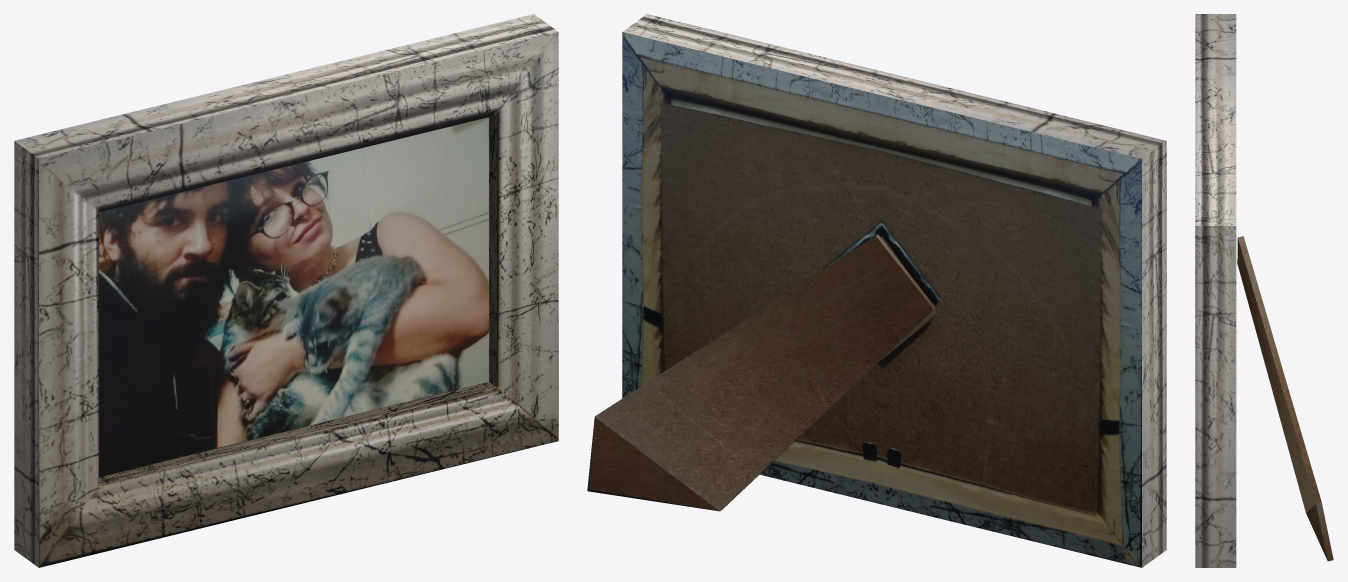
Rendered from Portrait.glb.
The picture shows the model from 3 angles, left to right: view 1: azimuth 30°, elevation 25°; view 2: azimuth 150°, elevation 25°; view 3: azimuth 270°, elevation 25°; orthographic projection. The views are drawn at different scales.
Parts seen in each view (by area): view 1: Portrait; view 2: Portrait; view 3: Portrait.
Part boxes in pixels (bbox=[...]): Portrait: bbox=[14, 14, 558, 567]; Portrait: bbox=[587, 14, 1166, 567]; Portrait: bbox=[1195, 14, 1333, 567].
Bounding box in the file's own units: 0.2303 × 0.1748 × 0.0636.
3 materials, 3 textured.
